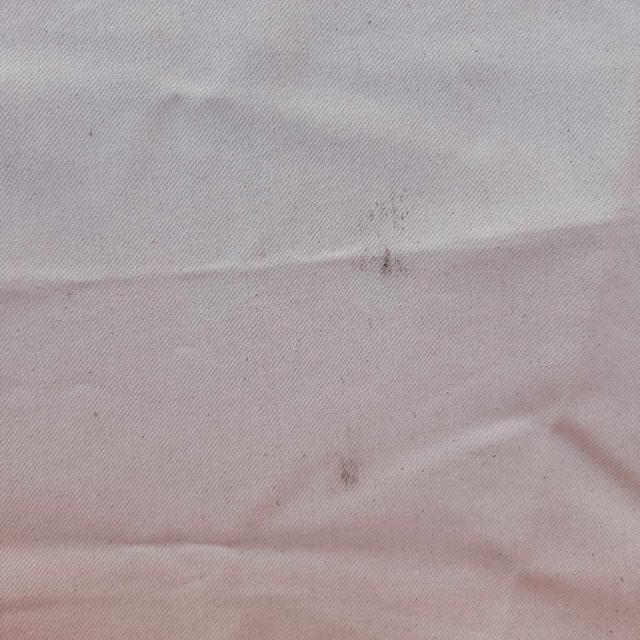taaaches: (360, 198, 444, 304), (322, 435, 376, 500)
